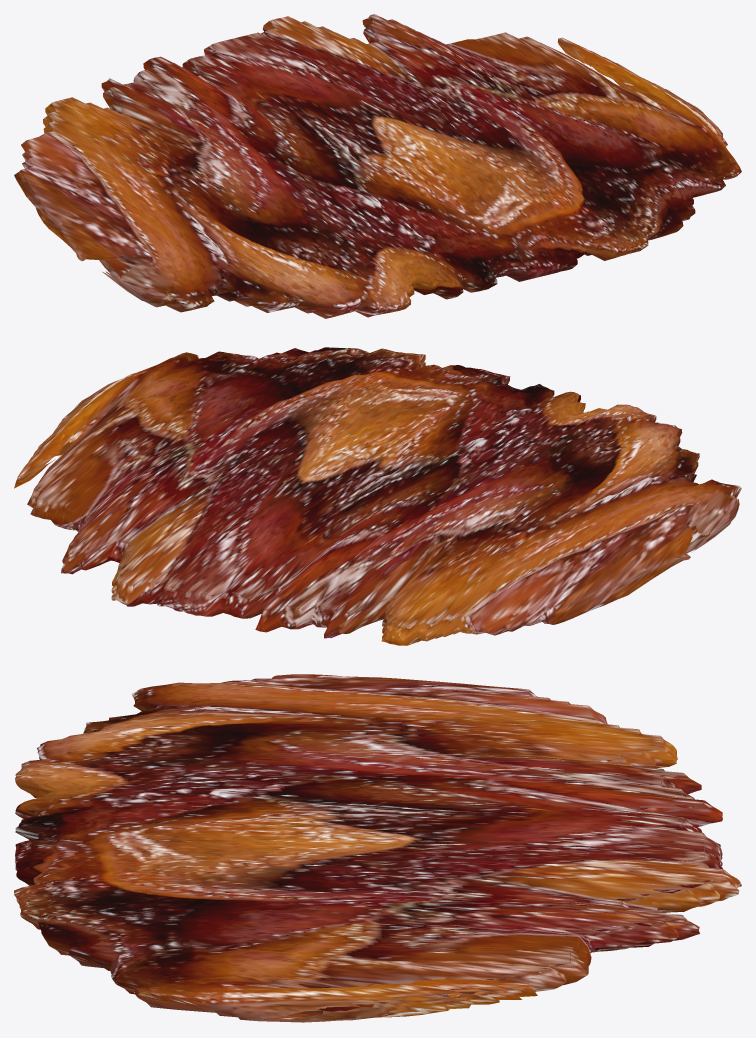
The model's file is wine-onion.glb.
3 views of the same model, one above another, from view 1: azimuth 30°, elevation 25°; view 2: azimuth 150°, elevation 25°; view 3: azimuth 270°, elevation 25° (orthographic). The views are drawn at different scales.
Visible parts, largest first — view 1: wine-onion; view 2: wine-onion; view 3: wine-onion.
Part boxes in pixels (x1,y1,x2,y2): wine-onion: (14, 14, 741, 318); wine-onion: (14, 347, 741, 645); wine-onion: (14, 674, 741, 1022).
Bounding box in the file's own units: 0.89 × 0.065 × 0.81.
Materials: 1 (1 with a texture image).
